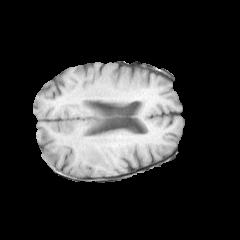glioma: (76, 139, 115, 177)
